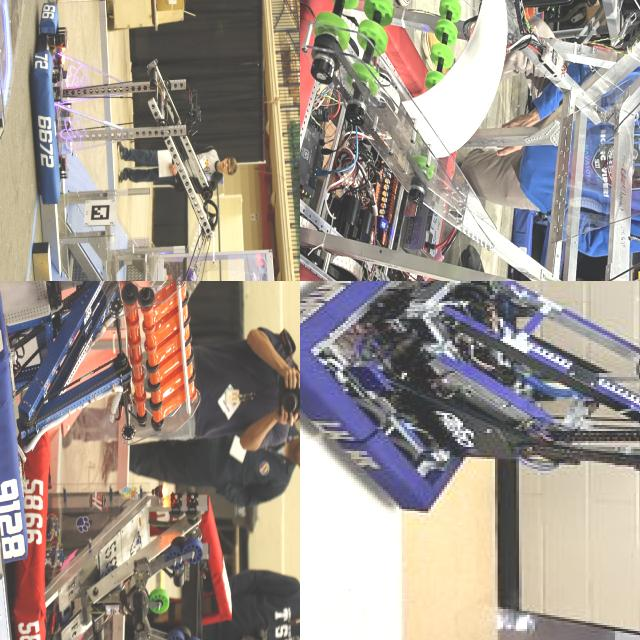FRC-Robots: (300, 0, 640, 281), (300, 281, 640, 530), (0, 281, 202, 575), (3, 407, 241, 640), (24, 0, 239, 237)
